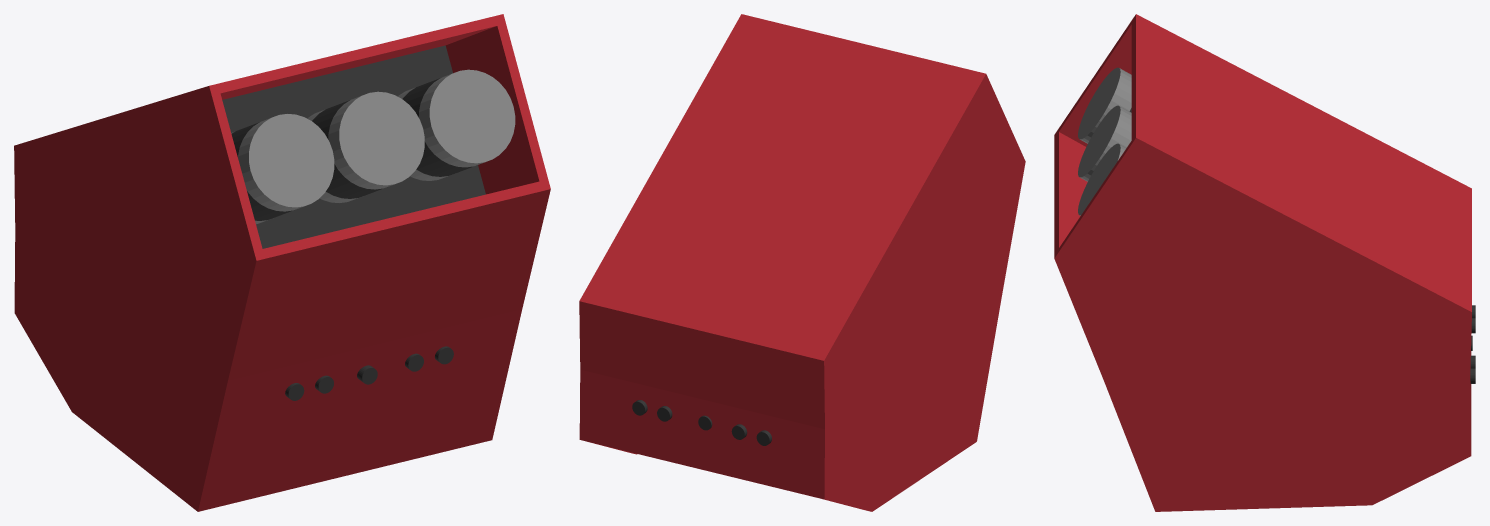
Rendered from arm3_head_origin.glb.
The picture shows the model from 3 angles, left to right: view 1: azimuth 30°, elevation 25°; view 2: azimuth 150°, elevation 25°; view 3: azimuth 270°, elevation 25°; orthographic projection. The views are drawn at different scales.
Visible parts, largest first — view 1: head.001; view 2: head.001; view 3: head.001.
Part boxes in pixels (x1=…): head.001: x1=14, y1=14, x2=550, y2=511; head.001: x1=579, y1=14, x2=1025, y2=511; head.001: x1=1054, y1=14, x2=1475, y2=511.
Bounding box in the file's own units: 0.1198 × 0.1688 × 0.1723.
